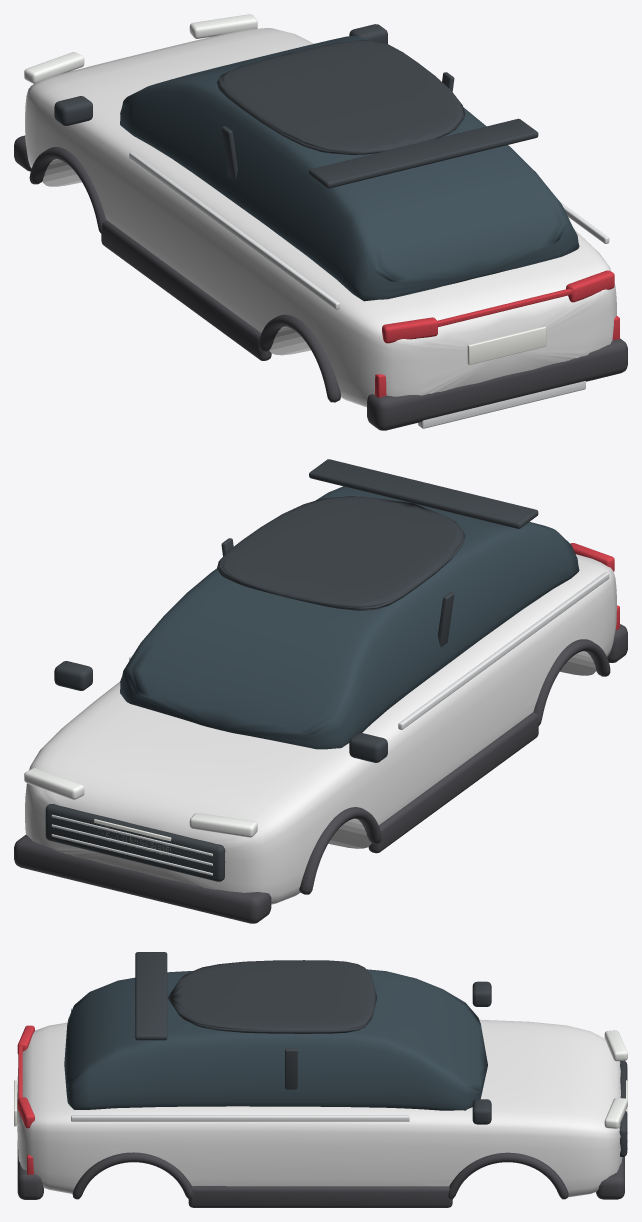
Rendered from player-car.glb.
The picture shows the model from 3 angles, top to bottom: view 1: azimuth 30°, elevation 25°; view 2: azimuth 150°, elevation 25°; view 3: azimuth 270°, elevation 25°; orthographic projection. The views are drawn at different scales.
Parts seen in each view (by area): view 1: paint_body, glass_house, black_roof, rubber_bumper_r, black_spoiler, rubber_sill, chrome_beltline, rubber_arch.001, plate.001, chrome_skid, rubber_arch, head_lamp.001 (+6 smaller); view 2: paint_body, glass_house, black_roof, rubber_bumper_f, black_grille, black_spoiler, rubber_sill, chrome_beltline, rubber_arch, rubber_arch.001, head_lamp, head_lamp.001 (+2 smaller); view 3: paint_body, glass_house, black_roof, rubber_sill.001, black_spoiler, chrome_beltline.001, rubber_arch.003, rubber_arch.002, rubber_bumper_r, rubber_bumper_f, black_grille, black_bpillar.001 (+5 smaller).
Part boxes in pixels (x1=…): paint_body: x1=25, y1=28, x2=616, y2=407; glass_house: x1=120, y1=36, x2=579, y2=301; black_roof: x1=217, y1=40, x2=465, y2=154; rubber_bumper_r: x1=367, y1=338, x2=627, y2=430; black_spoiler: x1=309, y1=118, x2=538, y2=188; rubber_sill: x1=101, y1=220, x2=271, y2=360; chrome_beltline: x1=129, y1=152, x2=339, y2=309; rubber_arch.001: x1=258, y1=314, x2=340, y2=402; plate.001: x1=467, y1=326, x2=546, y2=364; chrome_skid: x1=418, y1=381, x2=585, y2=428; rubber_arch: x1=29, y1=147, x2=106, y2=233; head_lamp.001: x1=189, y1=14, x2=257, y2=38; paint_body: x1=25, y1=554, x2=616, y2=904; glass_house: x1=120, y1=486, x2=579, y2=749; black_roof: x1=217, y1=496, x2=465, y2=610; rubber_bumper_f: x1=14, y1=835, x2=271, y2=923; black_grille: x1=45, y1=804, x2=225, y2=881; black_spoiler: x1=309, y1=459, x2=538, y2=528; rubber_sill: x1=368, y1=712, x2=538, y2=853; chrome_beltline: x1=398, y1=572, x2=609, y2=729; rubber_arch: x1=299, y1=807, x2=381, y2=894; rubber_arch.001: x1=533, y1=639, x2=610, y2=726; head_lamp: x1=189, y1=813, x2=257, y2=837; head_lamp.001: x1=24, y1=768, x2=84, y2=799; paint_body: x1=17, y1=1019, x2=622, y2=1199; glass_house: x1=64, y1=969, x2=487, y2=1110; black_roof: x1=167, y1=960, x2=377, y2=1033; rubber_sill.001: x1=188, y1=1186, x2=452, y2=1207; black_spoiler: x1=135, y1=952, x2=167, y2=1040; chrome_beltline.001: x1=71, y1=1115, x2=409, y2=1121; rubber_arch.003: x1=72, y1=1152, x2=192, y2=1199; rubber_arch.002: x1=448, y1=1152, x2=568, y2=1199; rubber_bumper_r: x1=17, y1=1141, x2=43, y2=1199; rubber_bumper_f: x1=596, y1=1156, x2=624, y2=1199; black_grille: x1=619, y1=1060, x2=627, y2=1156; black_bpillar.001: x1=285, y1=1048, x2=297, y2=1089.
Size of the model in its own units: 2.11 by 1.24 by 4.21.
